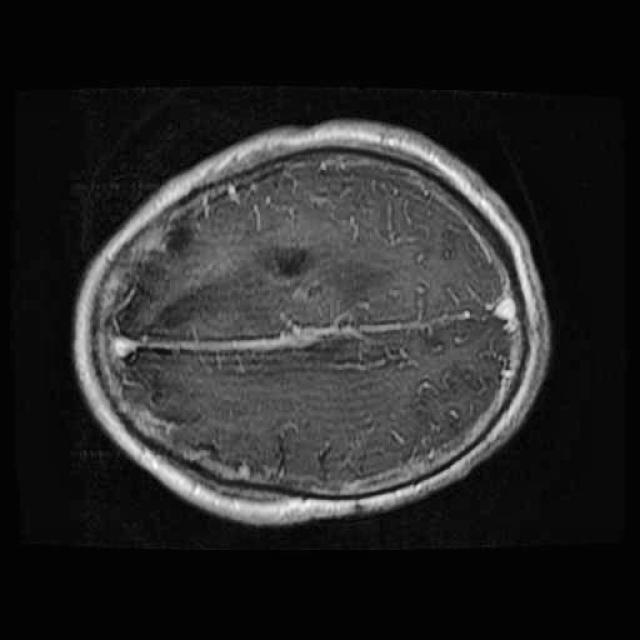Tumor: (247, 222, 326, 292)
